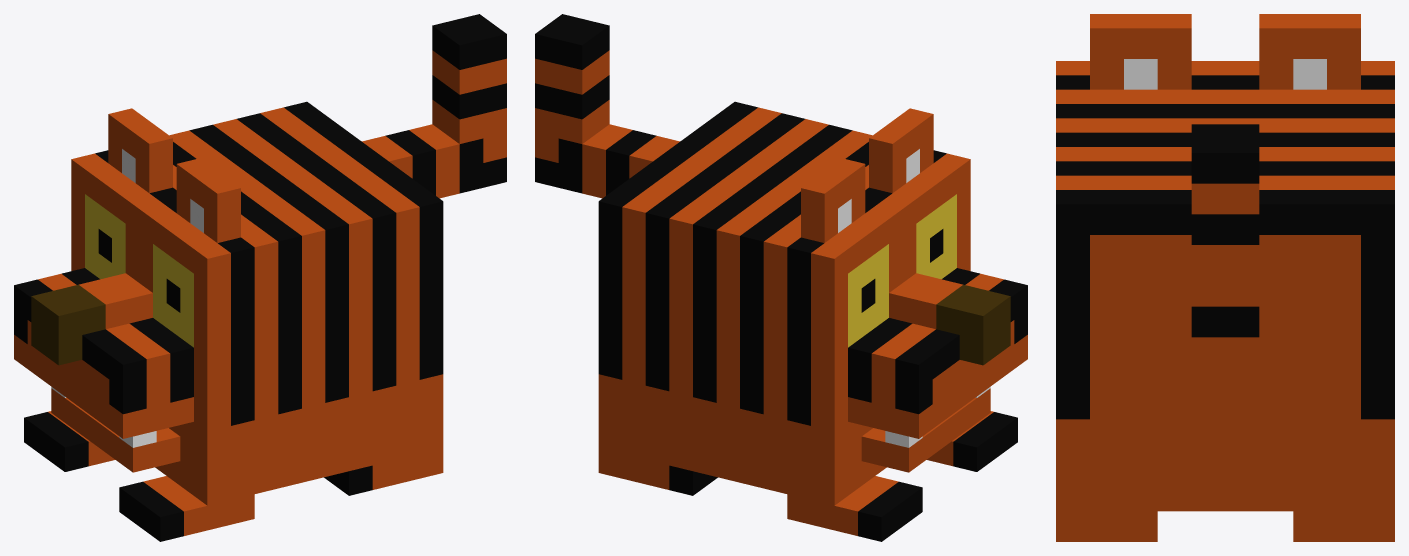
Rendered from chapter3_tiger.fbx.
3 views of the same model, side by side, from view 1: azimuth 30°, elevation 25°; view 2: azimuth 150°, elevation 25°; view 3: azimuth 270°, elevation 25° (orthographic). The views are drawn at different scales.
Parts seen in each view (by area): view 1: Matrix; view 2: Matrix; view 3: Matrix.
Part boxes in pixels (left/top/right/bottom): Matrix: left=14, top=14, right=506, bottom=541; Matrix: left=535, top=14, right=1027, bottom=541; Matrix: left=1056, top=14, right=1394, bottom=541.
Size of the model in its own units: 19 by 15 by 10.
